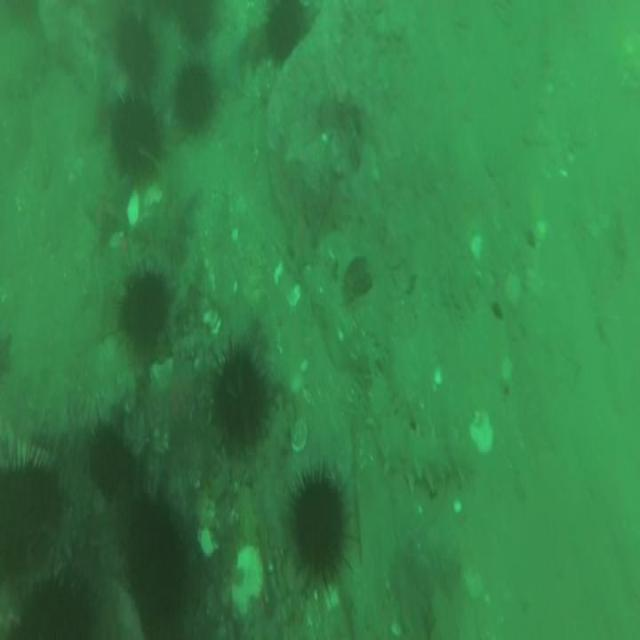echinus: (1, 463, 58, 574), (127, 499, 185, 608), (292, 472, 344, 578), (212, 350, 266, 446), (110, 98, 156, 182), (19, 581, 84, 640), (119, 272, 168, 349), (86, 425, 131, 501), (111, 19, 155, 85), (172, 63, 214, 130), (268, 1, 302, 66), (177, 2, 211, 42)
holothurian: (370, 368, 468, 492)
scallop: (290, 418, 308, 456)
starfish: (160, 356, 204, 433), (85, 175, 129, 250), (161, 185, 198, 235), (286, 217, 316, 270), (241, 20, 268, 64)
